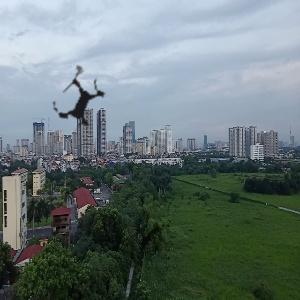drone: (30, 52, 128, 150)
